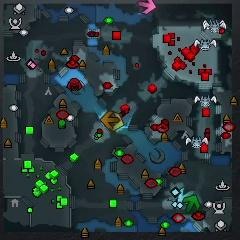x1: (138, 0, 156, 15)
x2: (111, 111, 124, 131)
x3: (176, 187, 196, 206)
x4: (183, 195, 200, 211)
x5: (100, 111, 119, 128)
